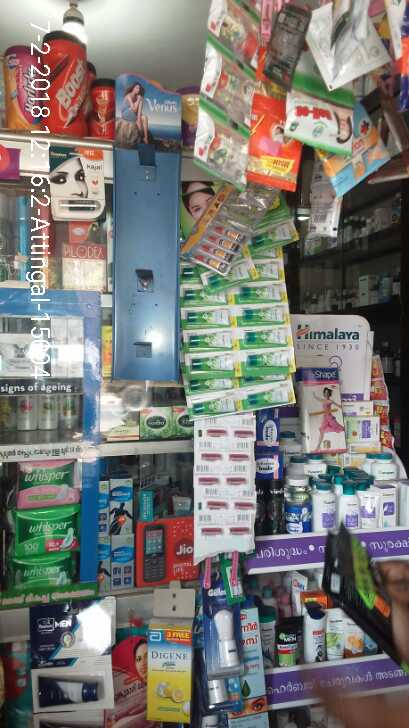whisper: (15, 458, 78, 509), (18, 514, 77, 551), (9, 554, 78, 585)
